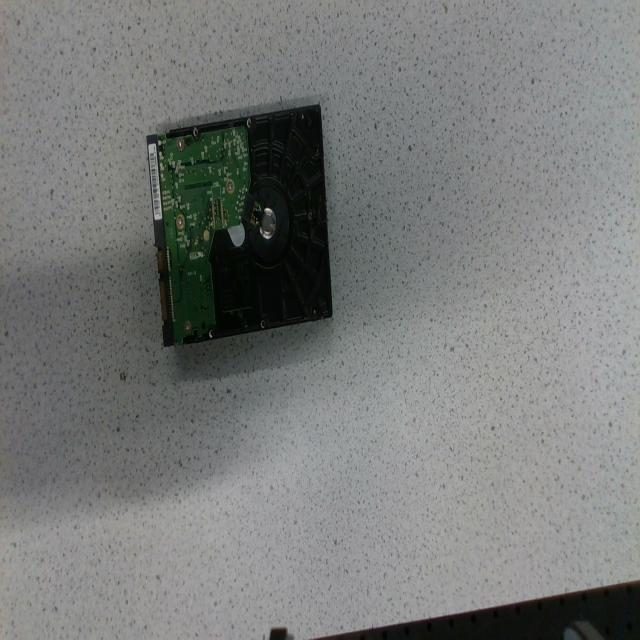case: (147, 105, 332, 346)
pcb: (155, 120, 250, 342)
screw: (176, 213, 184, 229), (226, 180, 234, 192), (177, 138, 184, 150), (185, 321, 190, 333)
